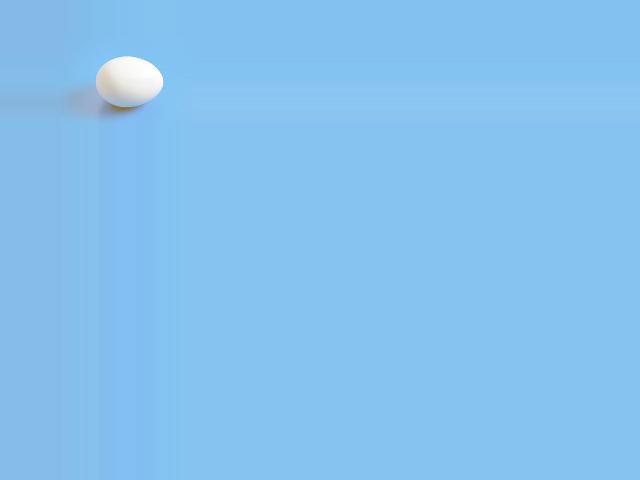egg: (94, 56, 163, 107)
